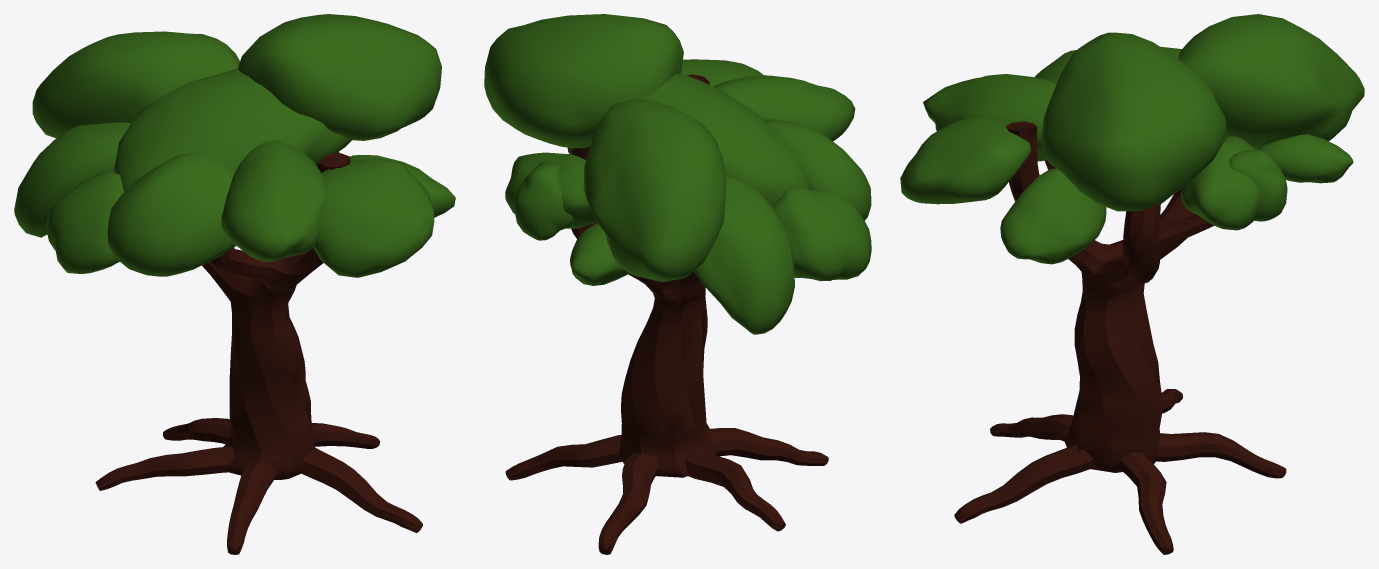
The model's file is obj_redwoodTREE3.fbx.
3 renders of one model, left to right at view 1: azimuth 30°, elevation 25°; view 2: azimuth 150°, elevation 25°; view 3: azimuth 270°, elevation 25°, orthographic. The views are drawn at different scales.
Parts seen in each view (by area): view 1: obj_redwoodTREE.002; view 2: obj_redwoodTREE.002; view 3: obj_redwoodTREE.002.
Boxes of the visible parts, x1=… form: obj_redwoodTREE.002: x1=14, y1=14, x2=455, y2=554; obj_redwoodTREE.002: x1=484, y1=14, x2=871, y2=554; obj_redwoodTREE.002: x1=900, y1=14, x2=1364, y2=554.
Size of the model in its own units: 11.11 by 13.06 by 11.77.
